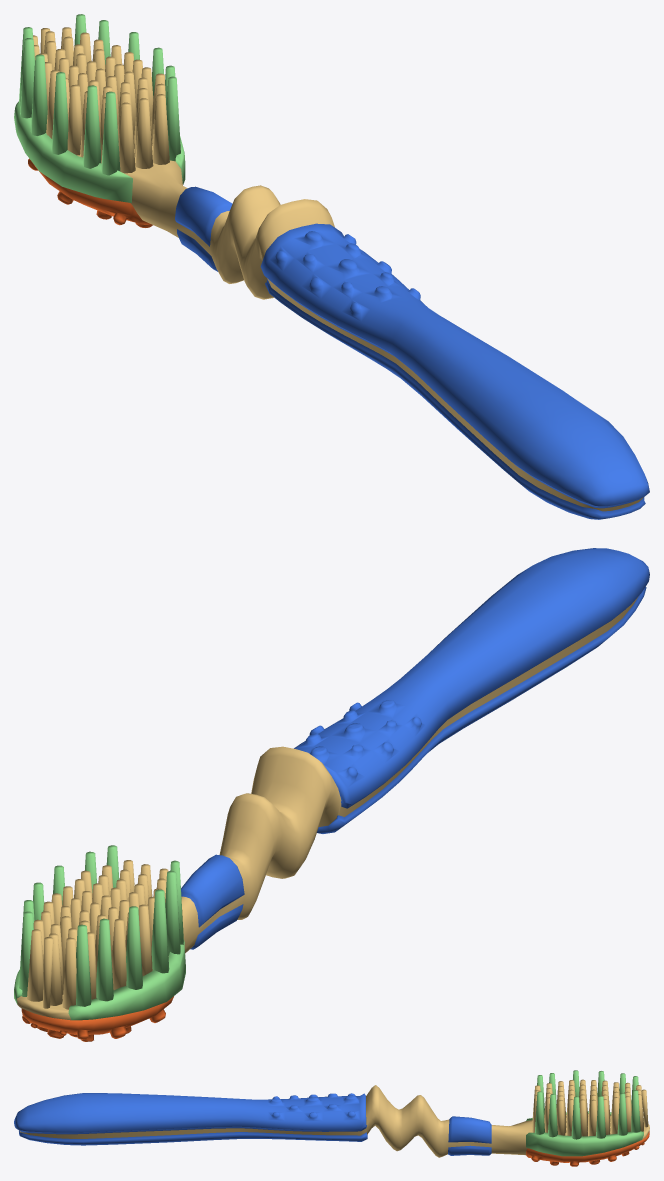
Rendered from tooth_brush.fbx.
3 renders of one model, top to bottom at view 1: azimuth 30°, elevation 25°; view 2: azimuth 150°, elevation 25°; view 3: azimuth 270°, elevation 25°, orthographic. The views are drawn at different scales.
Parts seen in each view (by area): view 1: Plane.003, Plane.006, Plane.002, Plane, Plane.004, Plane.005; view 2: Plane.003, Plane.002, Plane.006, Plane, Plane.004, Plane.005; view 3: Plane.003, Plane.002, Plane.006, Plane, Plane.004, Plane.005.
Part boxes in pixels (x1=…): Plane.003: x1=260, y1=223, x2=649, y2=519; Plane.006: x1=14, y1=14, x2=185, y2=202; Plane.002: x1=77, y1=144, x2=643, y2=511; Plane: x1=33, y1=27, x2=169, y2=173; Plane.004: x1=175, y1=186, x2=232, y2=271; Plane.005: x1=28, y1=158, x2=152, y2=227; Plane.003: x1=294, y1=548, x2=649, y2=833; Plane.002: x1=17, y1=596, x2=638, y2=1020; Plane.006: x1=14, y1=845, x2=185, y2=1020; Plane: x1=27, y1=860, x2=168, y2=1009; Plane.004: x1=181, y1=854, x2=244, y2=949; Plane.005: x1=21, y1=996, x2=173, y2=1041; Plane.003: x1=14, y1=1093, x2=536, y2=1161; Plane.002: x1=20, y1=1085, x2=649, y2=1157; Plane.006: x1=526, y1=1070, x2=643, y2=1156; Plane: x1=532, y1=1079, x2=648, y2=1136; Plane.004: x1=448, y1=1116, x2=491, y2=1155; Plane.005: x1=526, y1=1131, x2=649, y2=1166.
Size of the model in its own units: 51 by 52.57 by 401.
